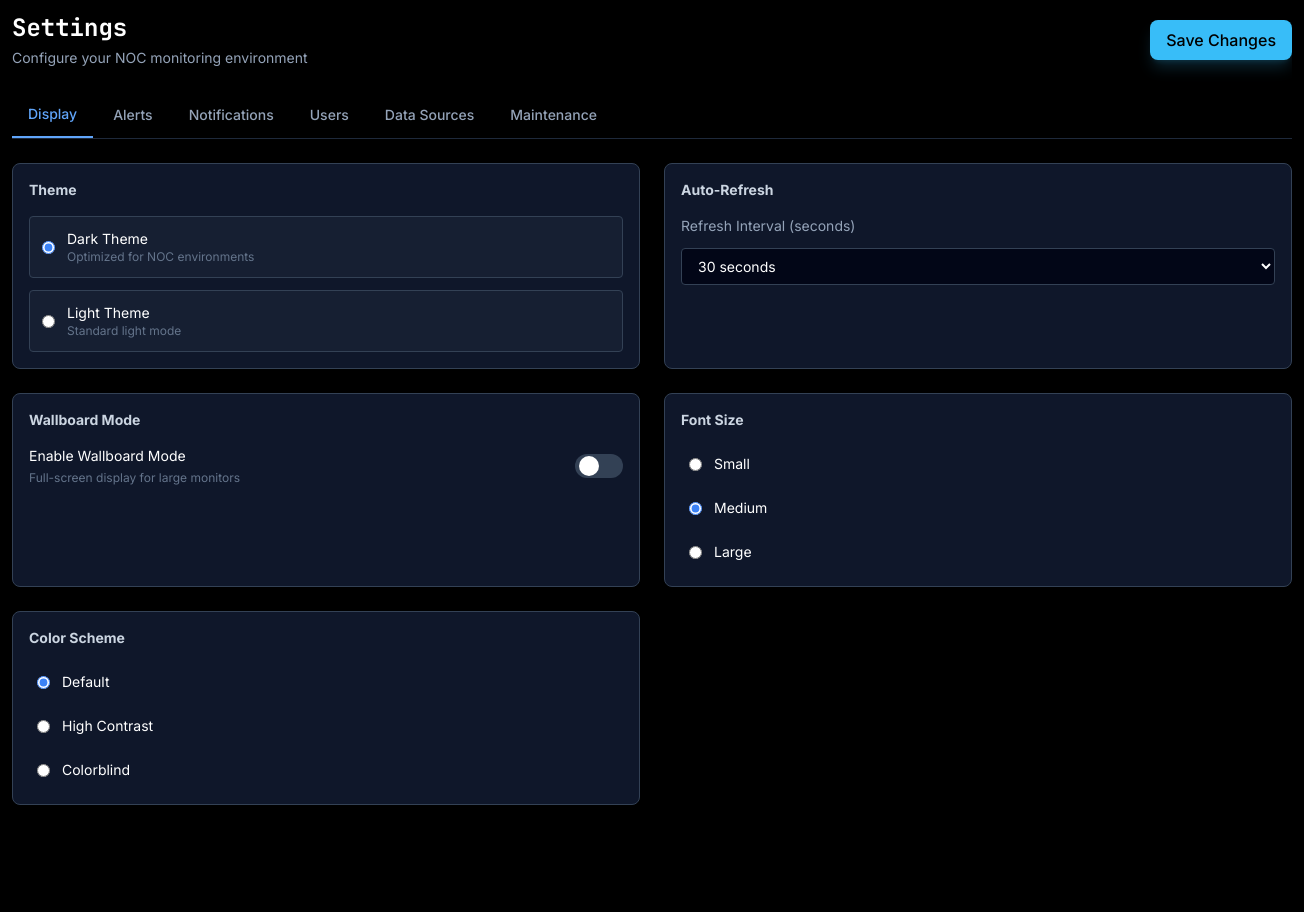
Test: SettingsPage › switches to Users tab when clicked
The width and height of the screenshot is (1304, 912).
Click the button "Users" at (329, 115), box [294, 92, 365, 138]
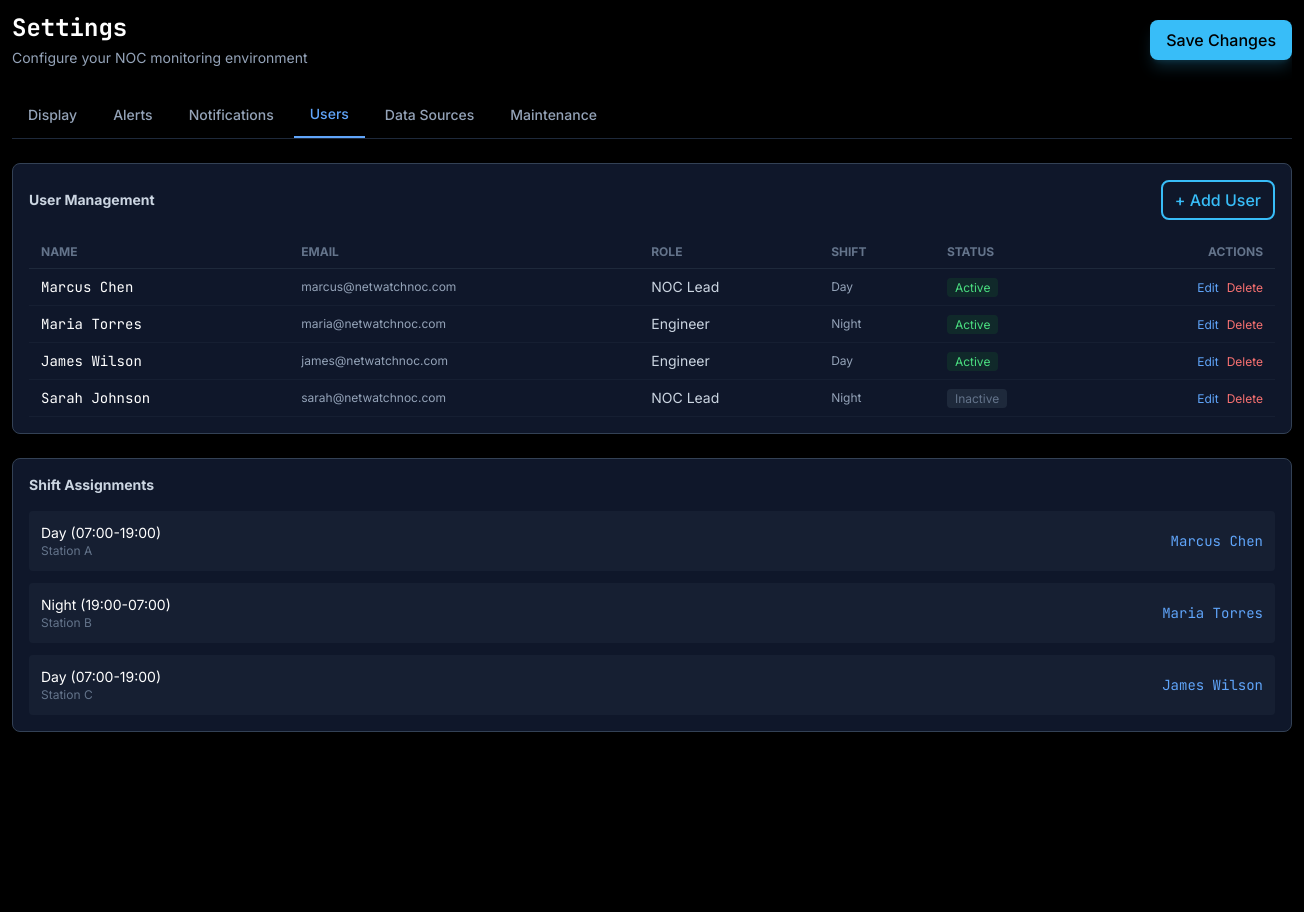
Expected: the heading "User Management" is shown, [29, 190, 155, 210]
Expected: the heading "Shift Assignments" is shown, [29, 476, 154, 493]
